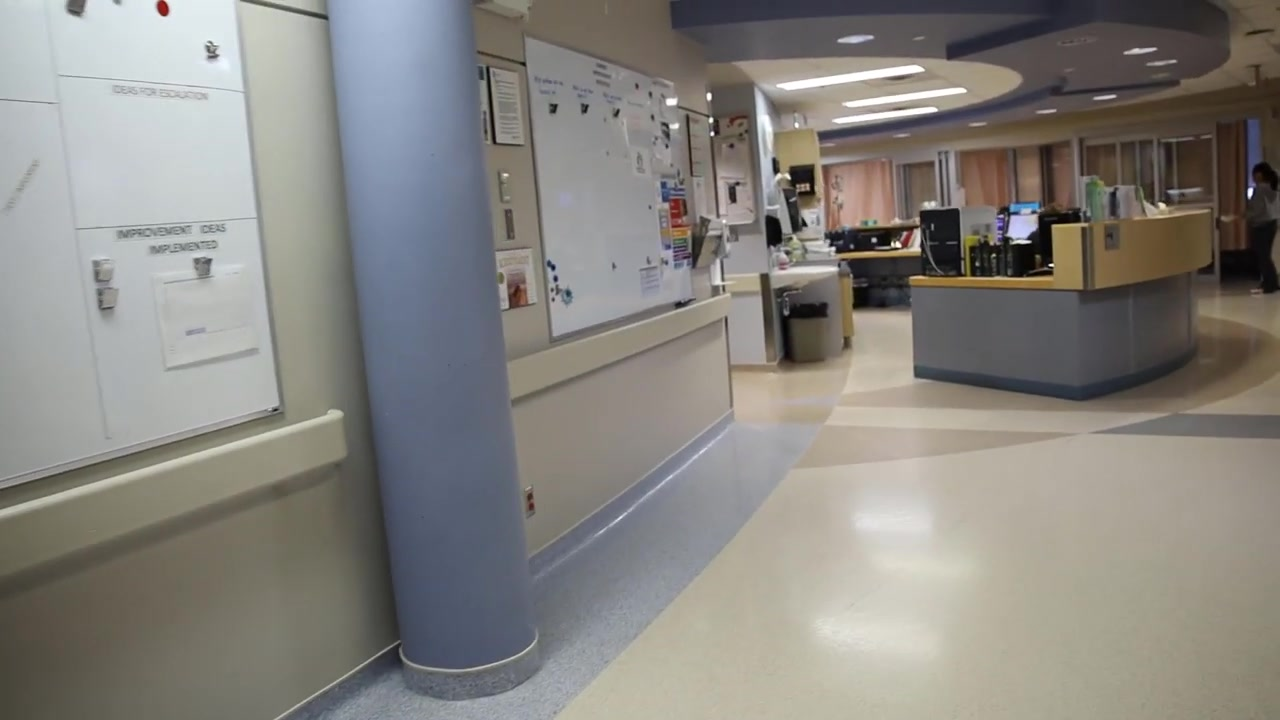cabinet: (773, 131, 825, 210)
computer: (1005, 211, 1040, 239)
counter: (909, 211, 1211, 392)
curtain: (823, 158, 895, 230), (1216, 120, 1245, 250), (960, 150, 1011, 210)
dispenser: (706, 216, 736, 289), (763, 214, 784, 250)
hallway_assist_bar: (1, 412, 348, 588), (510, 290, 731, 401)
person: (1240, 162, 1280, 298)
sink: (775, 265, 840, 292)
waste_bin: (787, 305, 829, 363)
